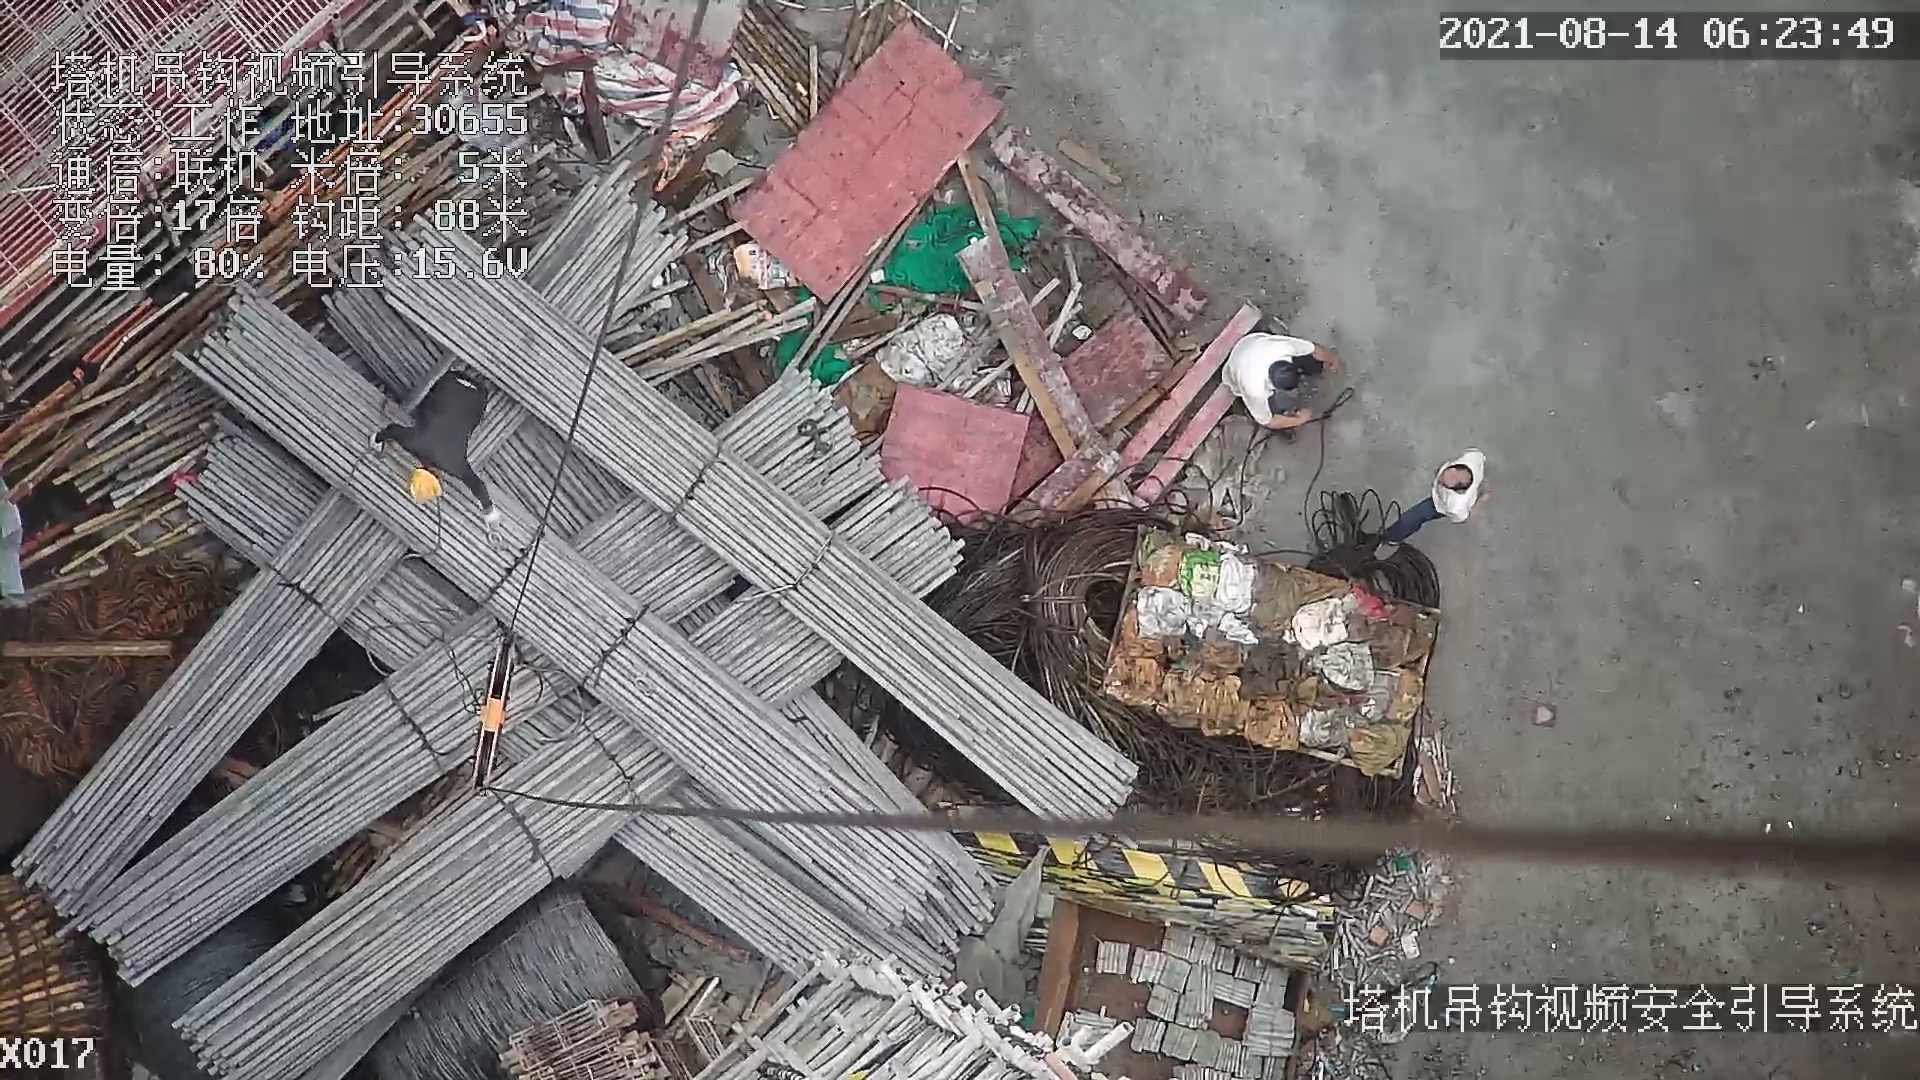helmet: (411, 467, 441, 503)
hook: (473, 631, 524, 799)
person: (370, 369, 510, 539), (1377, 449, 1491, 564), (1224, 333, 1349, 433)
rebar: (183, 295, 936, 931), (392, 276, 1131, 818), (181, 701, 689, 1080), (70, 606, 571, 983), (12, 484, 408, 923)
wood: (1, 877, 116, 1035)
